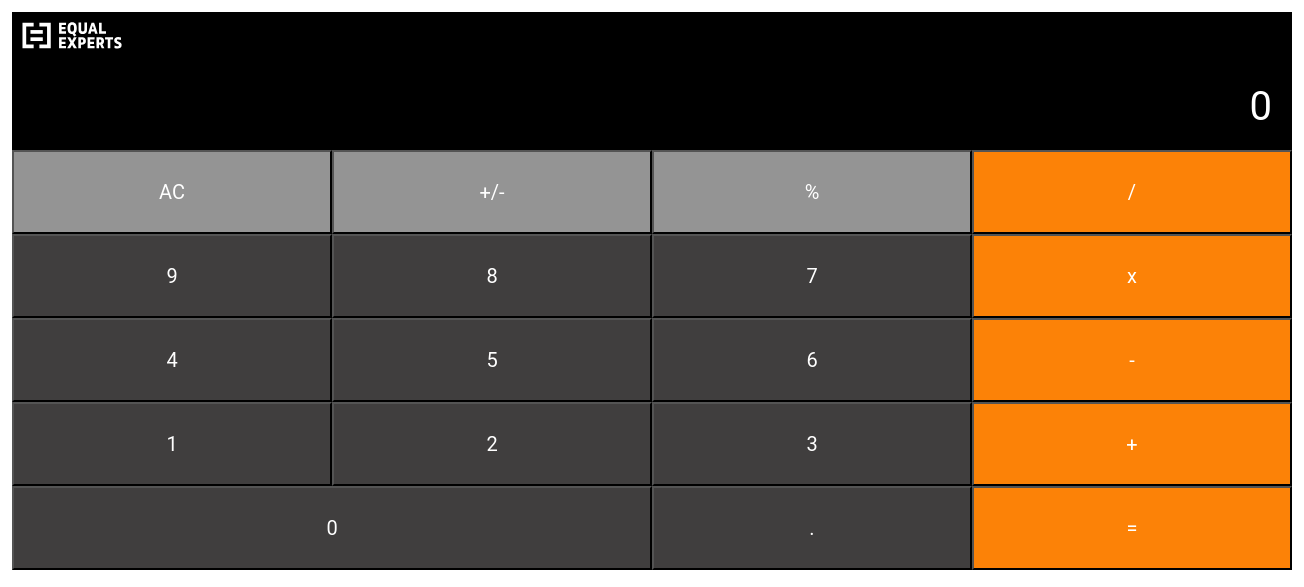
<Calculator /> › pressing dot (decimal point) when zero is on the screen displays the dot on the left of zero
Step 1. Click the button "." → [812, 528], box [652,486,972,570]
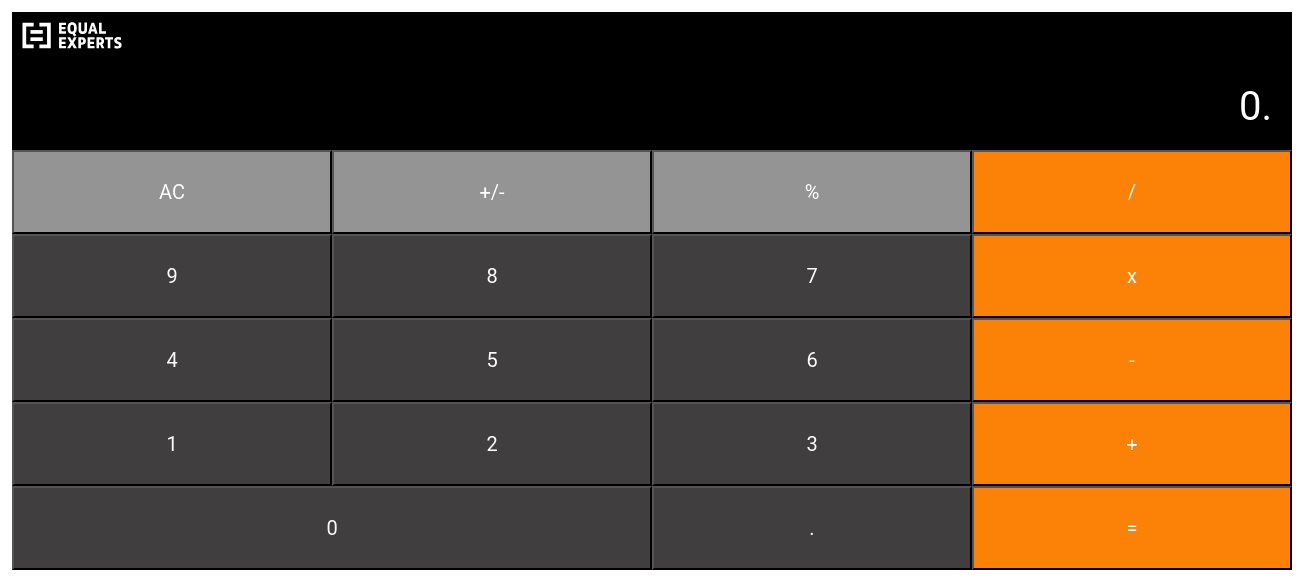
Expected: the text "0." is shown, [12,63,1292,150]
